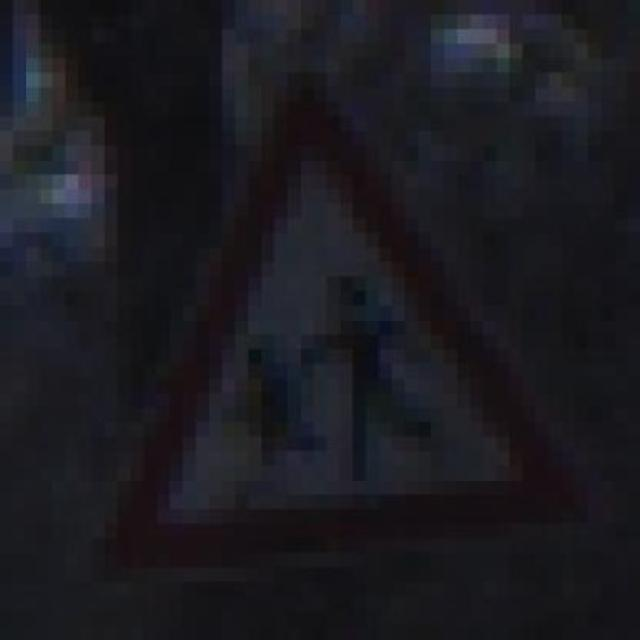Beware of children: (79, 72, 562, 568)
